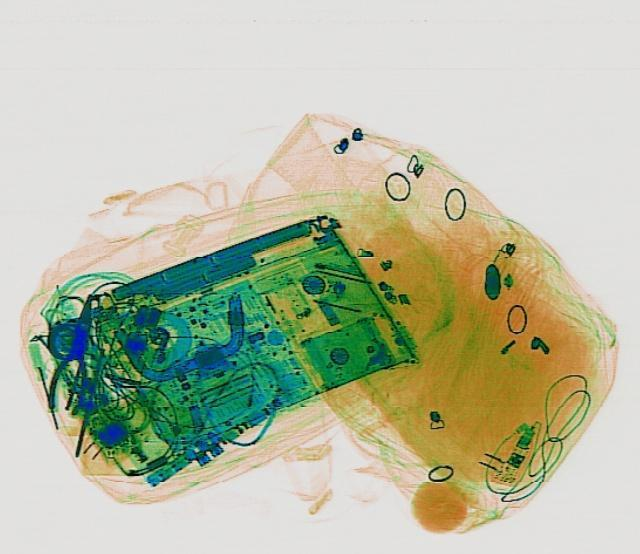Pliers: (40, 290, 109, 416)
